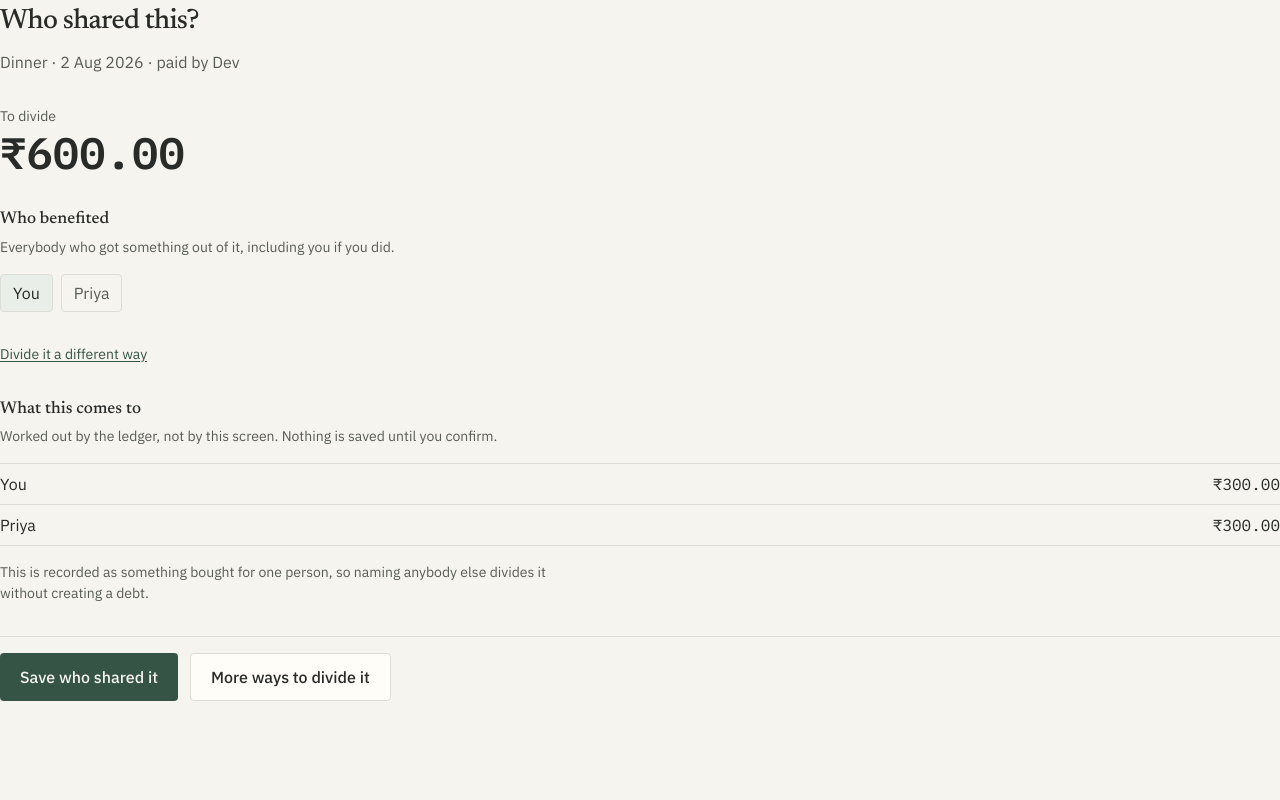
saying who shared an expense › does not promise a debt the split would not create
Expected: the heading "What this comes to" is shown, [0,400,141,418]
Click the button "Save who shared it". click: coordinates (89, 677)
box: [0,653,178,701]
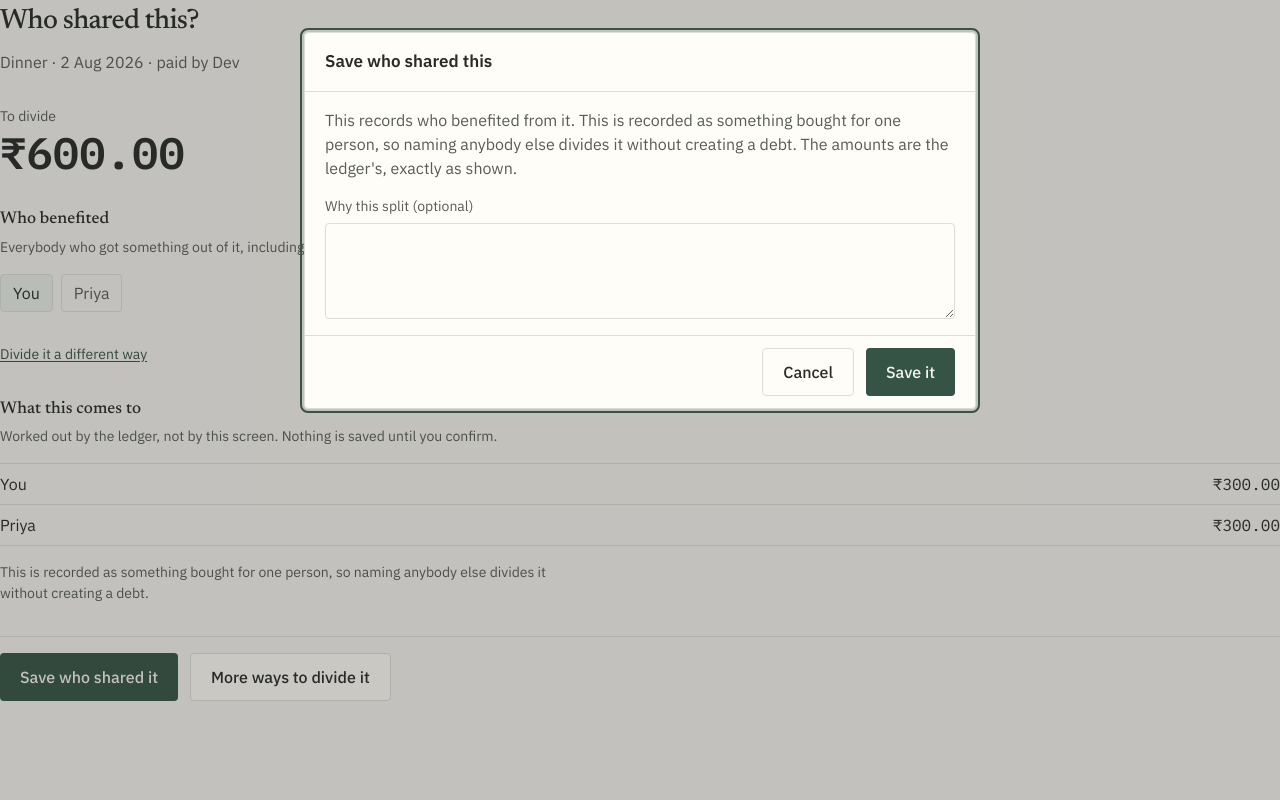
Result: the text "This records who benefited from it" is shown at [325,110,575,130]
